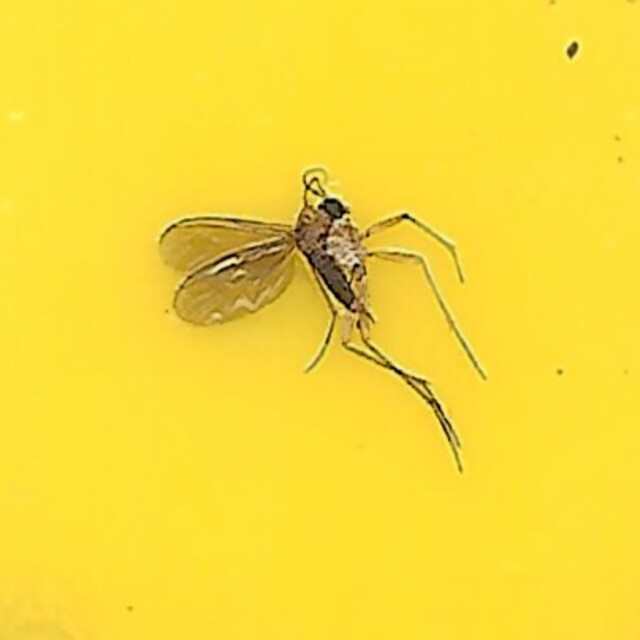Nematocera: (158, 168, 482, 472)
